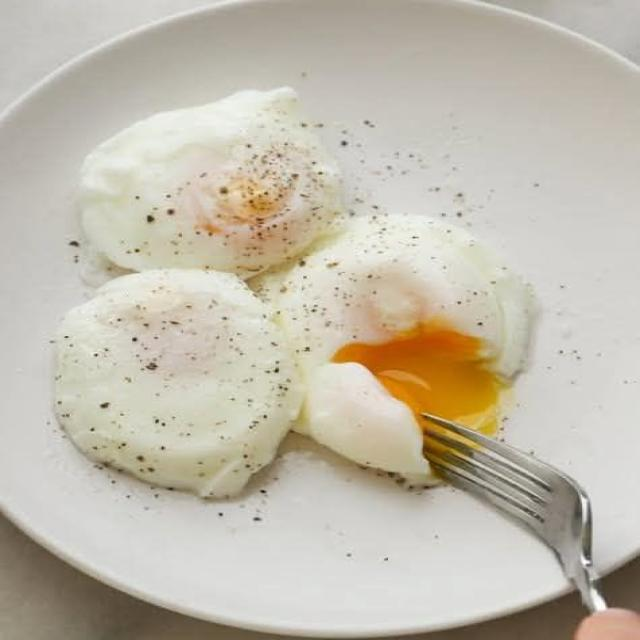egg boiled: (262, 216, 530, 478), (54, 269, 301, 497), (79, 88, 340, 277)
